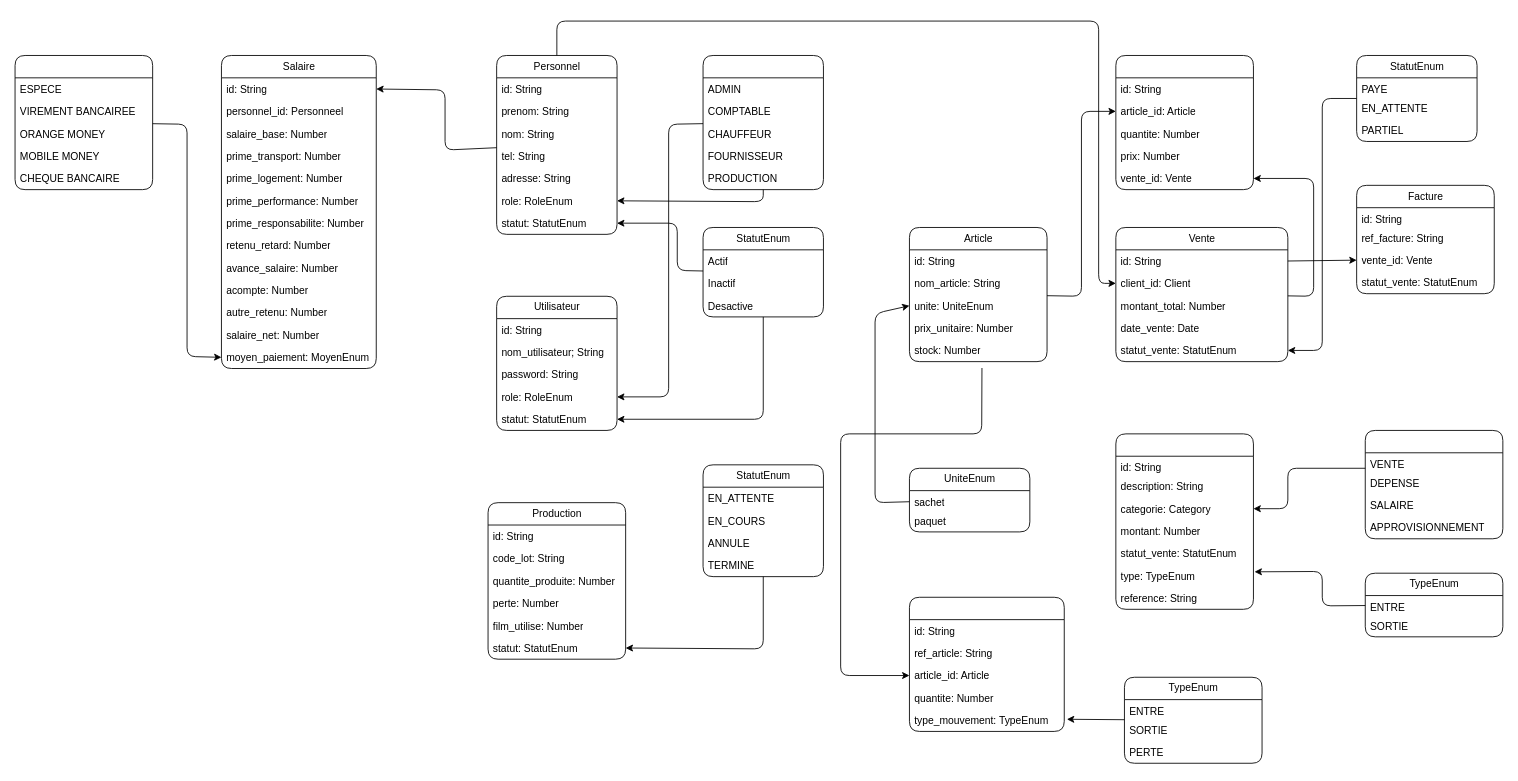
Some shapes in this 1518 by 781 pixel diagram are drawn without their labels. The shapes that lost their labels are listed below. From the top down, each one's box as (x1, y1, x2, y2) in pixels, then its label:
(14, 55, 153, 190): MoyenEnum
(702, 55, 823, 190): RoleEnum
(1115, 55, 1253, 190): LigneVente
(1364, 430, 1503, 539): Category
(1115, 433, 1253, 609): TRANSACTION
(909, 596, 1064, 731): MouventStock
